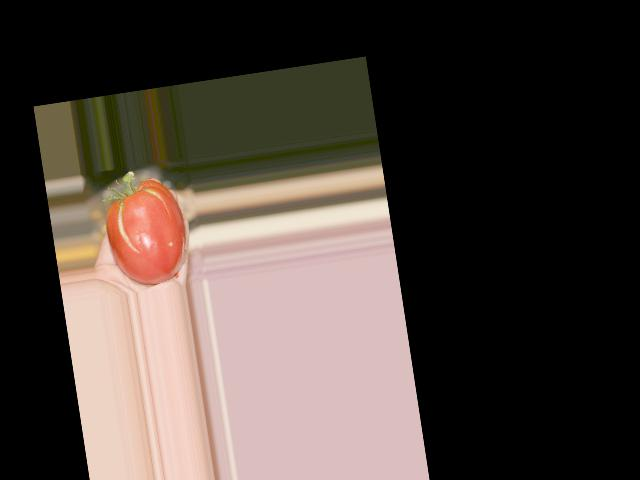tomato: (101, 175, 193, 289)
